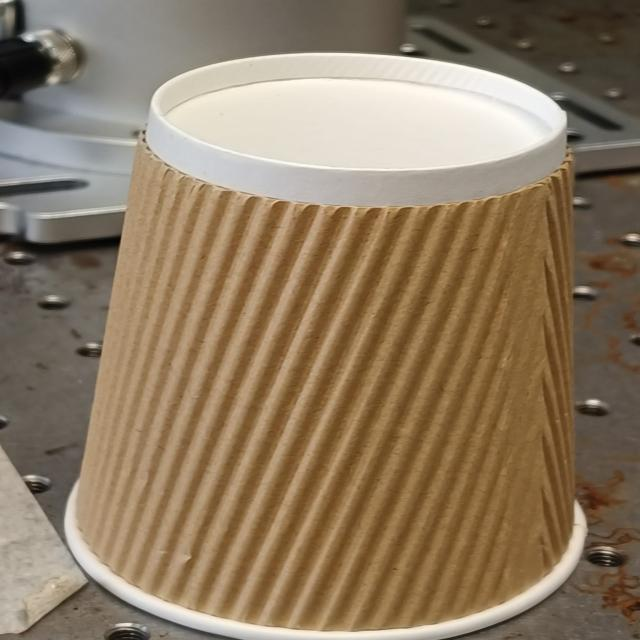Browncup: (64, 50, 594, 640)
